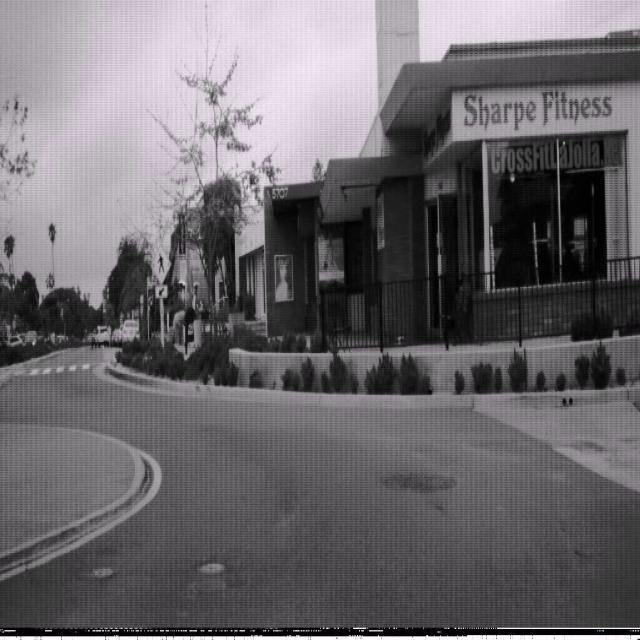pedestrianCrossing: (150, 242, 172, 284)
